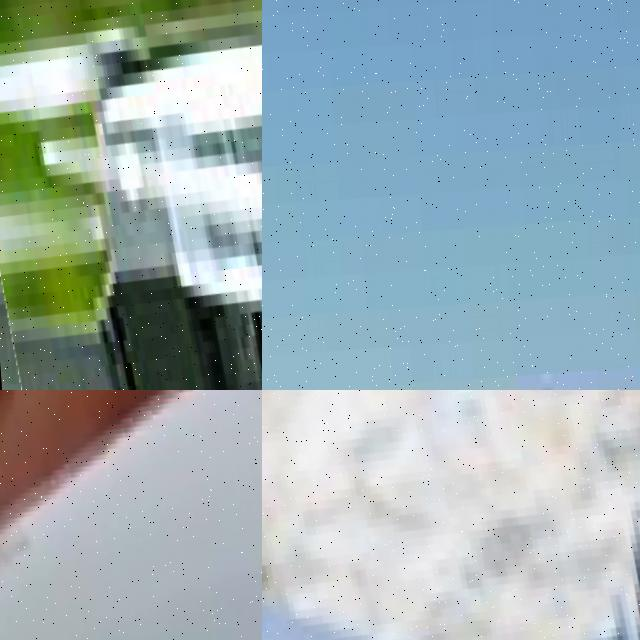drone: (0, 0, 262, 390), (262, 390, 640, 640), (0, 390, 262, 640)
